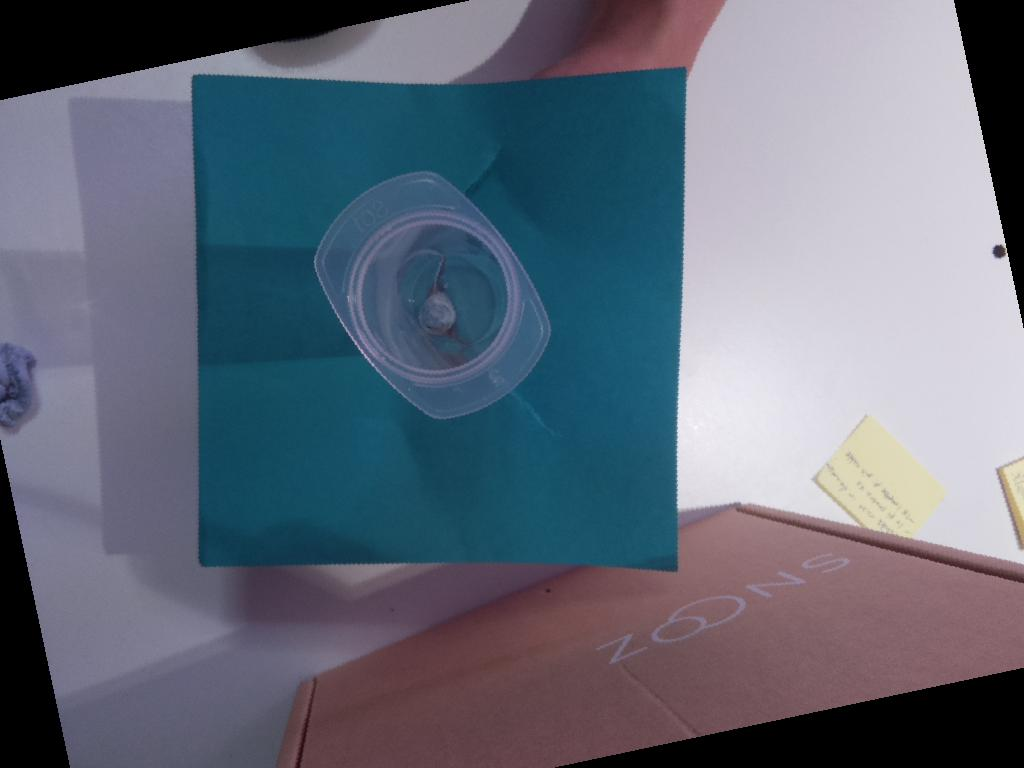clean: (309, 166, 557, 421)
